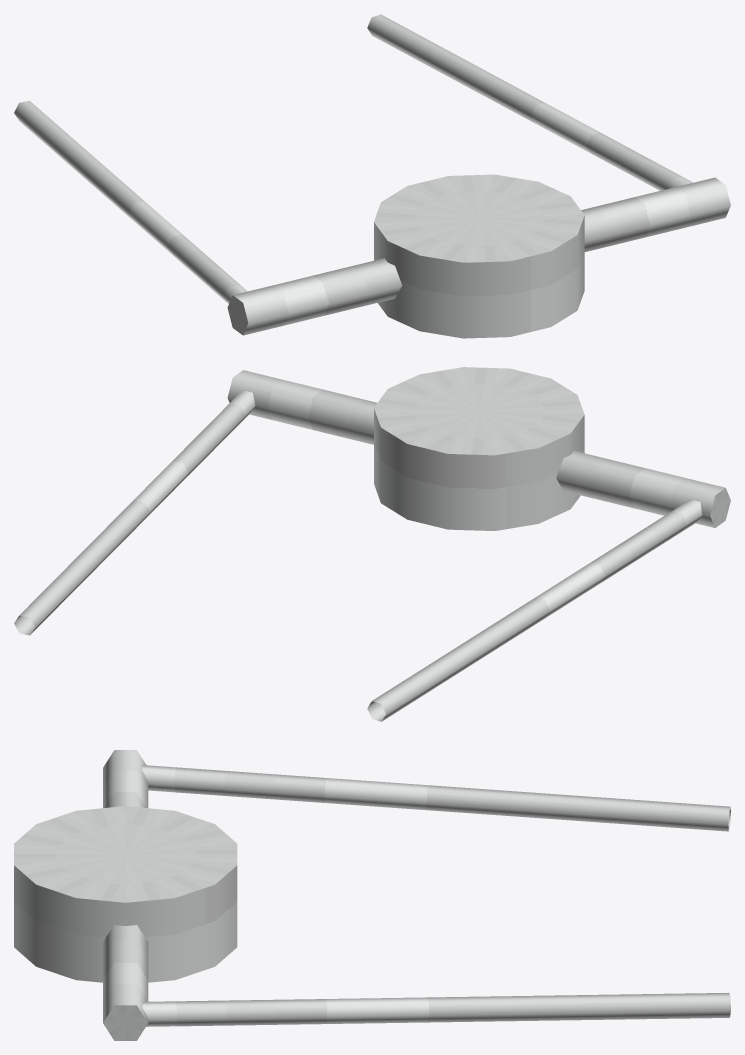
File: nycsignalarm_regular6_c0_thin.obj
3 views of the same model, one above another, from view 1: azimuth 30°, elevation 25°; view 2: azimuth 150°, elevation 25°; view 3: azimuth 270°, elevation 25° (orthographic). The views are drawn at different scales.
Parts seen in each view (by area): view 1: nycsignalarm_regular6_c0_thin; view 2: nycsignalarm_regular6_c0_thin; view 3: nycsignalarm_regular6_c0_thin.
Part boxes in pixels (left/top/right/bottom): nycsignalarm_regular6_c0_thin: left=14, top=14, right=730, bottom=338; nycsignalarm_regular6_c0_thin: left=14, top=367, right=730, bottom=721; nycsignalarm_regular6_c0_thin: left=14, top=750, right=730, bottom=1040.
Size of the model in its own units: 1.5 by 0.225 by 1.78.
